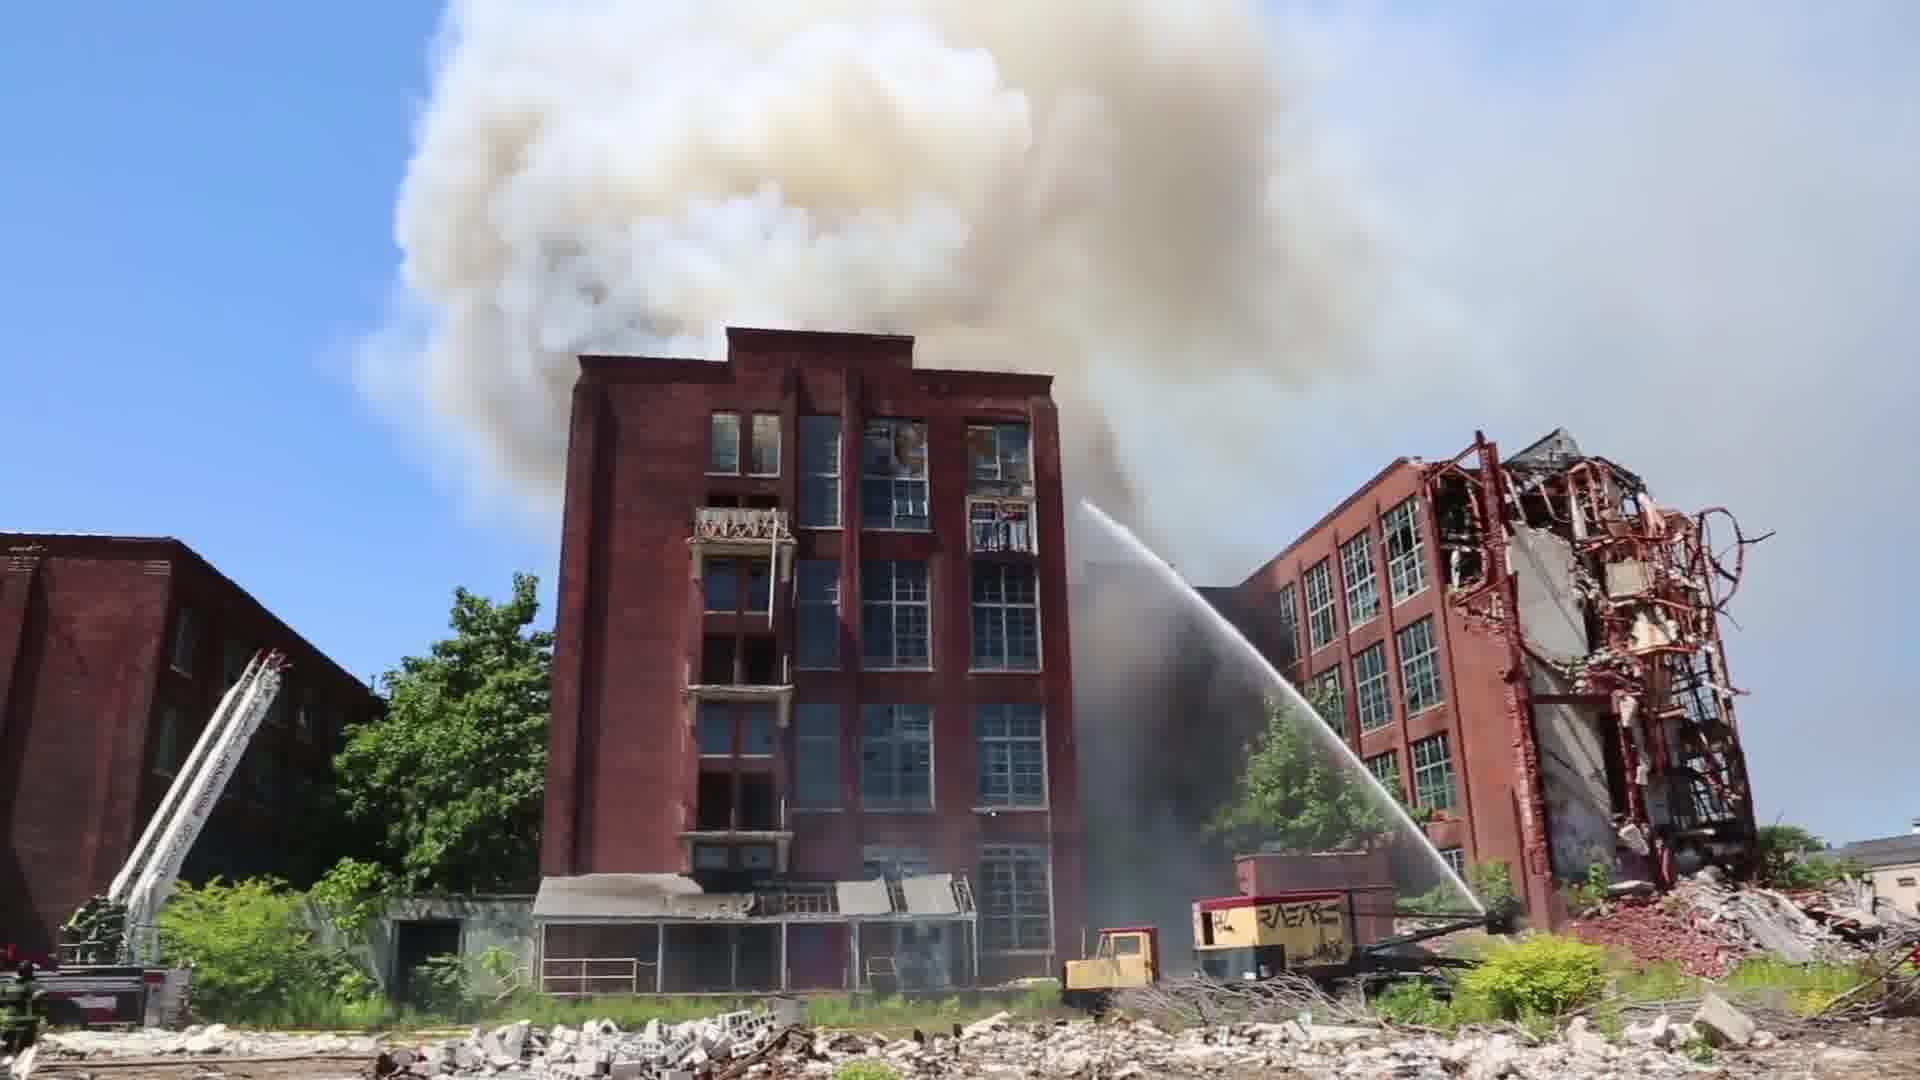smoke: (467, 11, 1233, 320)
